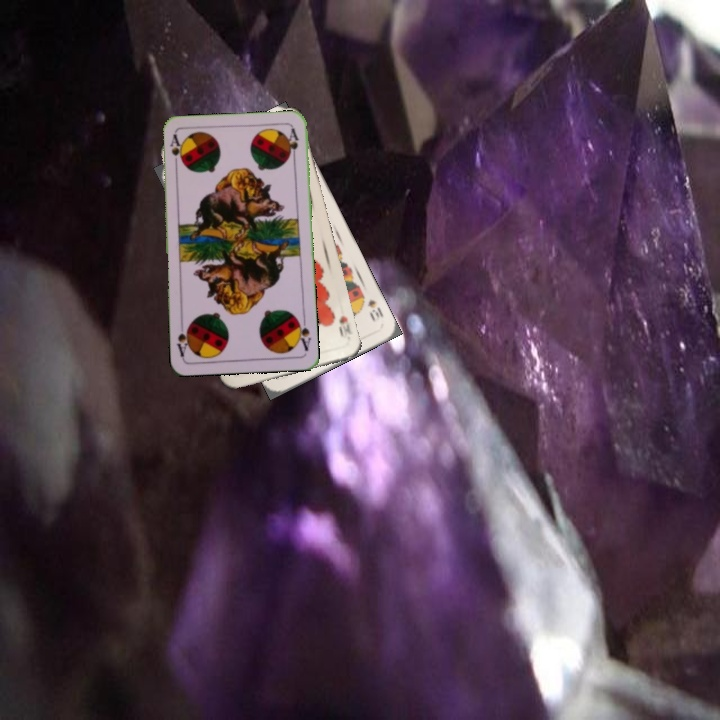H10: (335, 311, 355, 341)
S10: (363, 294, 386, 324)
SA: (292, 313, 313, 353), (166, 131, 184, 171)
